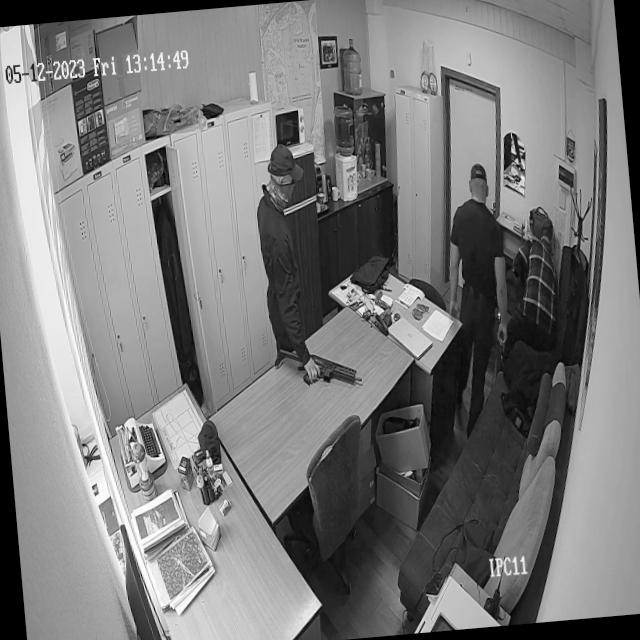gun: (274, 338, 363, 392), (496, 324, 509, 360)
person: (510, 232, 562, 350)
person with a gun: (440, 162, 514, 410), (252, 144, 319, 381)
